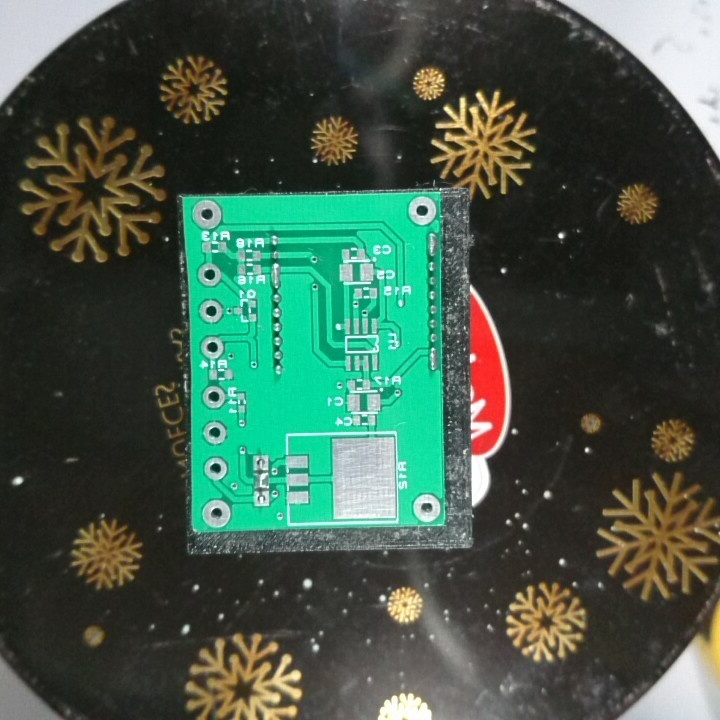F: (189, 196, 225, 232), (405, 195, 439, 225), (412, 492, 443, 524), (199, 498, 233, 527), (197, 297, 226, 326), (200, 417, 229, 446), (199, 383, 227, 411), (201, 455, 230, 482), (195, 263, 223, 288), (198, 333, 226, 358), (250, 489, 273, 509), (251, 452, 273, 472)
P: (423, 229, 439, 260), (425, 345, 441, 373), (268, 260, 282, 290)
